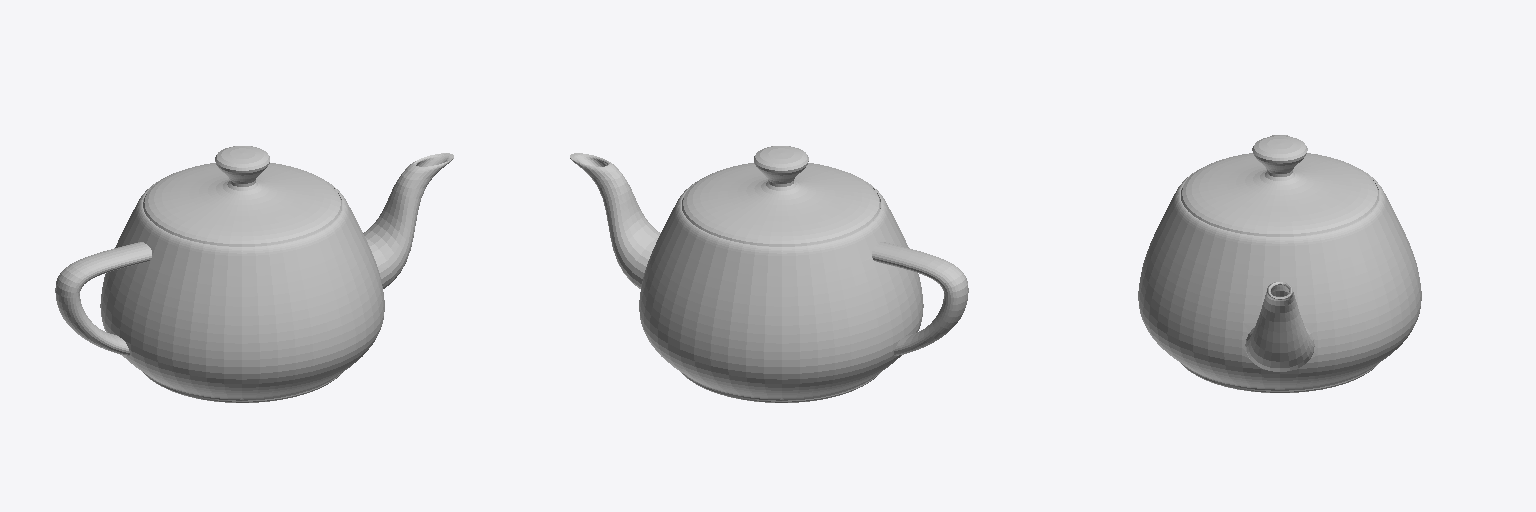
File: teapot_uv.obj
The picture shows the model from 3 angles: view 1: azimuth 30°, elevation 25°; view 2: azimuth 150°, elevation 25°; view 3: azimuth 270°, elevation 25°; orthographic projection.
Visible parts, largest first — view 1: teapot; view 2: teapot; view 3: teapot.
Part boxes in pixels (bbox=[...]): teapot: bbox=[55, 146, 453, 402]; teapot: bbox=[570, 146, 968, 402]; teapot: bbox=[1138, 135, 1421, 392].
Bounding box in the file's own units: 1.54 × 0.7901 × 0.9586.